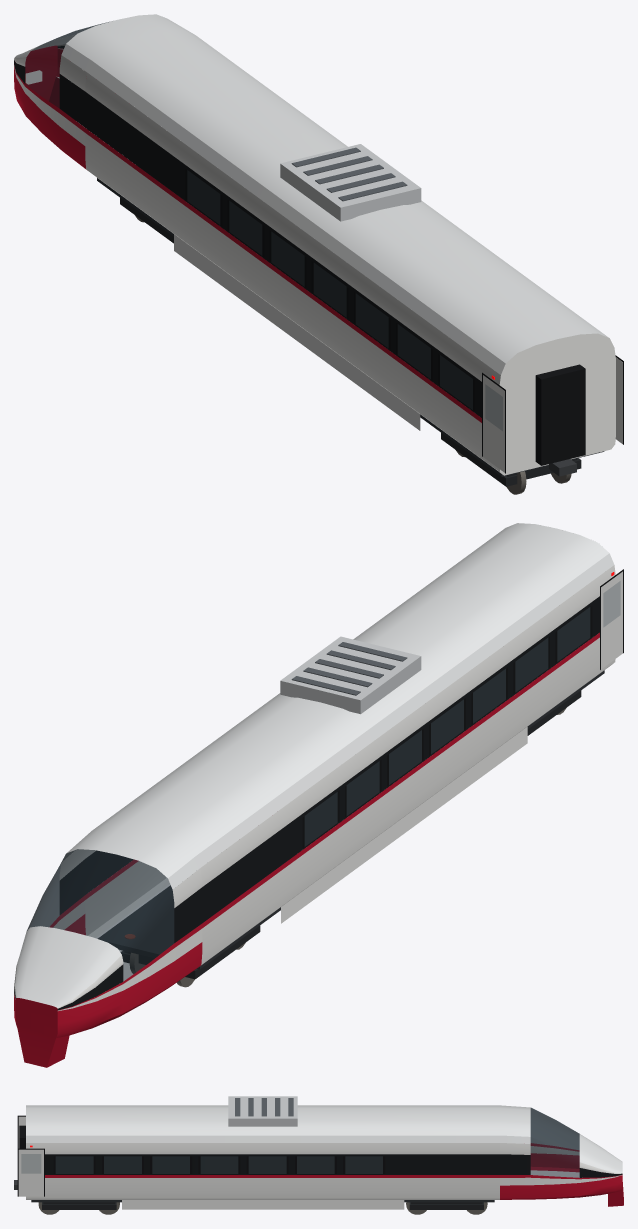
The model's file is puyuma-lead.glb.
3 renders of one model, top to bottom at view 1: azimuth 30°, elevation 25°; view 2: azimuth 150°, elevation 25°; view 3: azimuth 270°, elevation 25°, orthographic. The views are drawn at different scales.
Parts seen in each view (by area): view 1: Puyuma_Lead; view 2: Puyuma_Lead; view 3: Puyuma_Lead.
Part boxes in pixels (x1,y1,x2,y2): Puyuma_Lead: [14, 14, 623, 494]; Puyuma_Lead: [14, 523, 623, 1067]; Puyuma_Lead: [14, 1096, 623, 1214].
Bounding box in the file's own units: 2.98 × 4.17 × 22.9.
